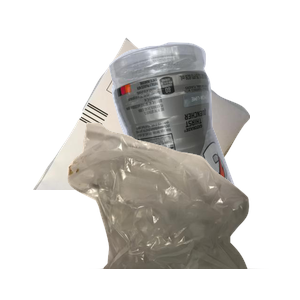glass: (102, 181, 246, 300)
paper: (31, 35, 271, 215)
plastic: (106, 40, 300, 220)
trash: (65, 120, 300, 300)
